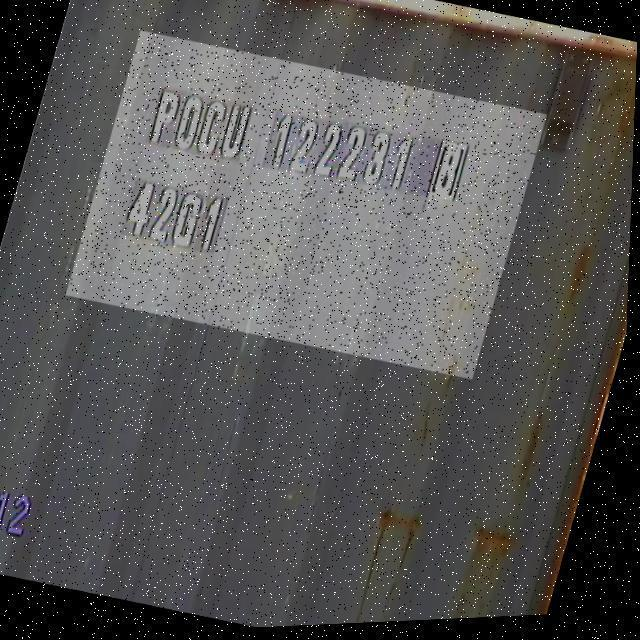container_number_h: (64, 17, 551, 398)
